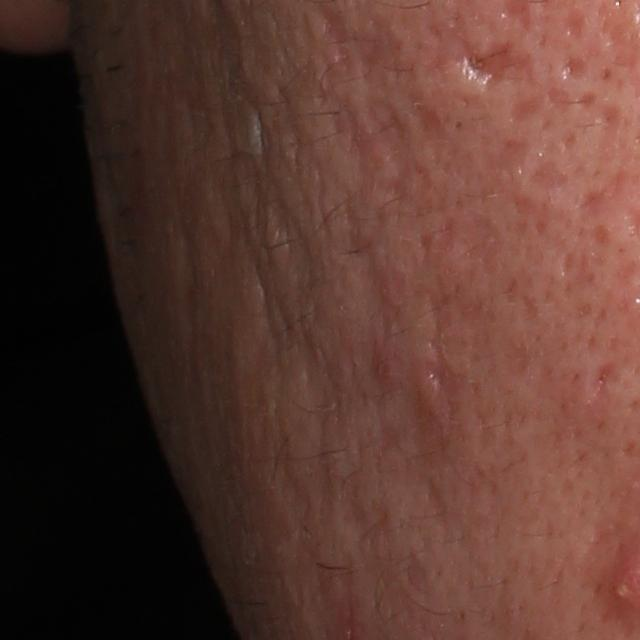atrophic_scar: (417, 21, 533, 86), (274, 181, 313, 302), (429, 342, 475, 405), (527, 138, 571, 193), (507, 88, 547, 128), (583, 356, 620, 392), (558, 53, 595, 87), (574, 186, 607, 223)
papule: (410, 356, 442, 426), (369, 340, 400, 389)
